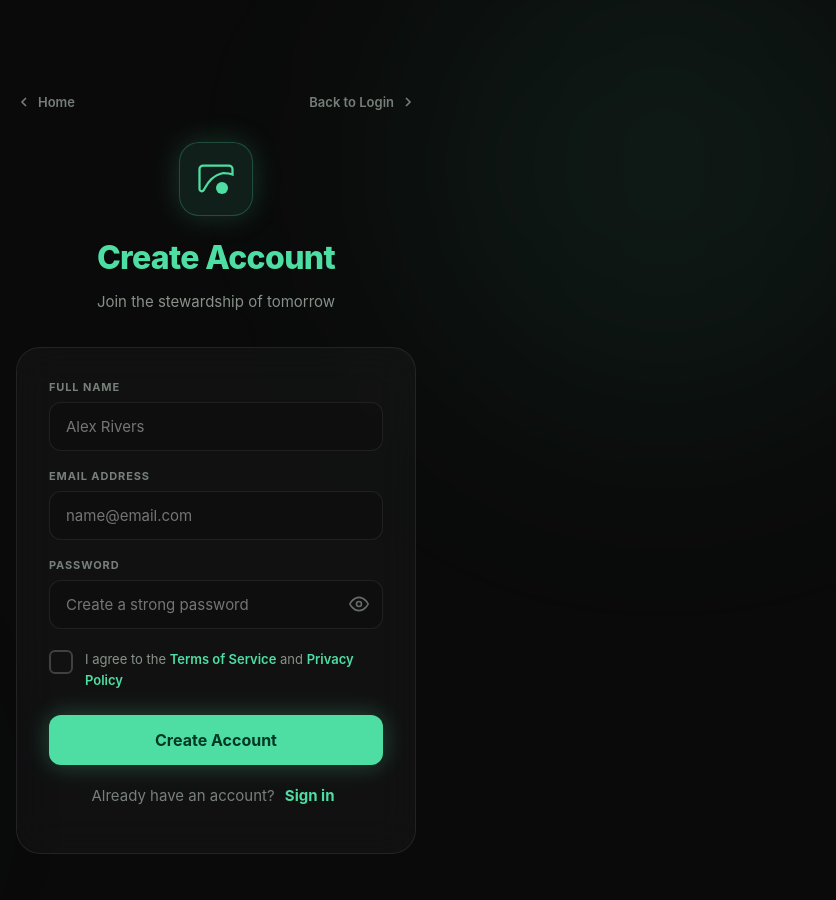
Test: Signup component › shows error on mismatched passwords
Step 1. Type "Test User" into the field labelled "Full Name" → (216,426), box [49,402,383,451]
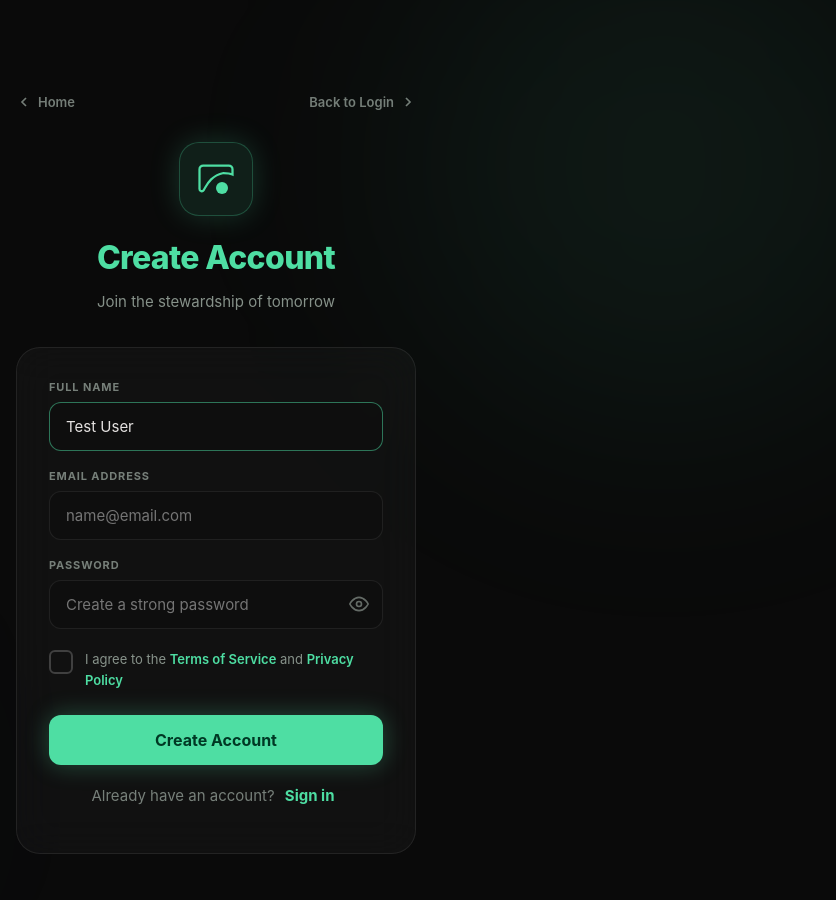
Step 2. Type "test@example.com" into the field labelled "Email Address" → (216,515), box [49,491,383,540]
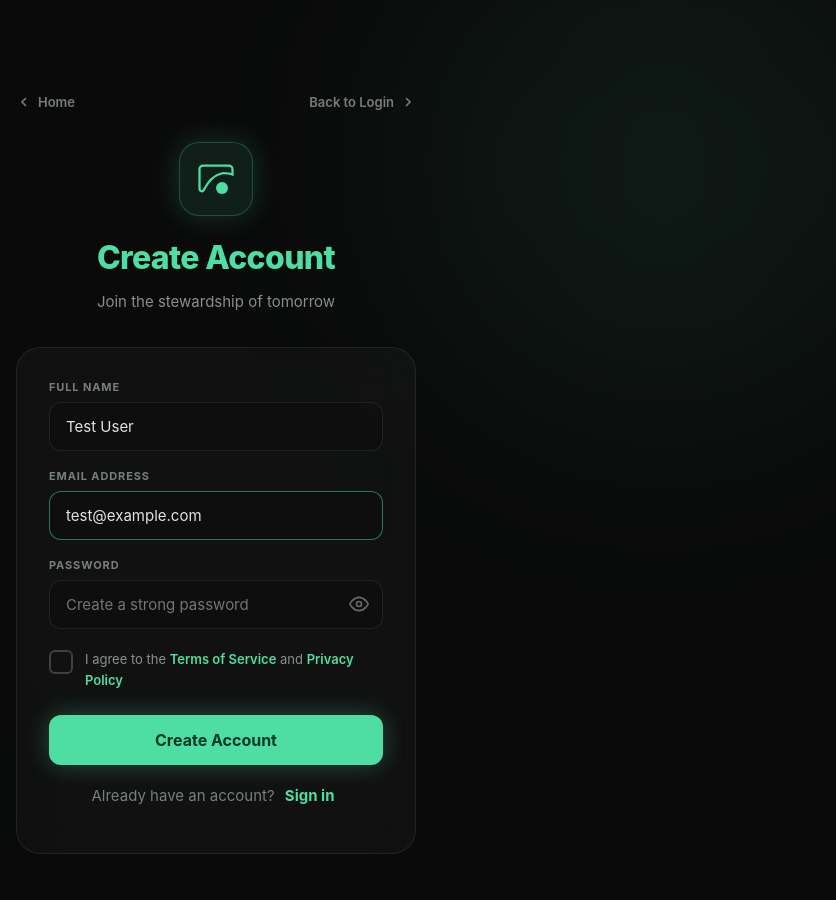
Step 3. Type "Password1!" into the password field labelled "Password" → (216,604), box [49,580,383,629]
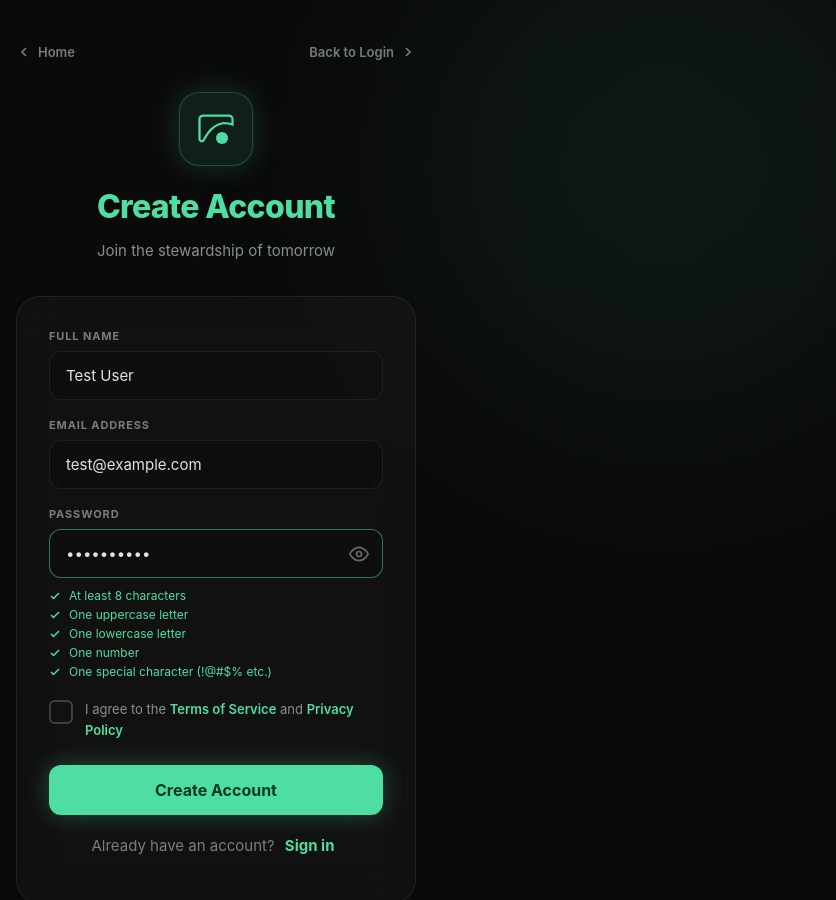
Step 4. Click the button "Create Account" → (216,790), box [49,765,383,815]
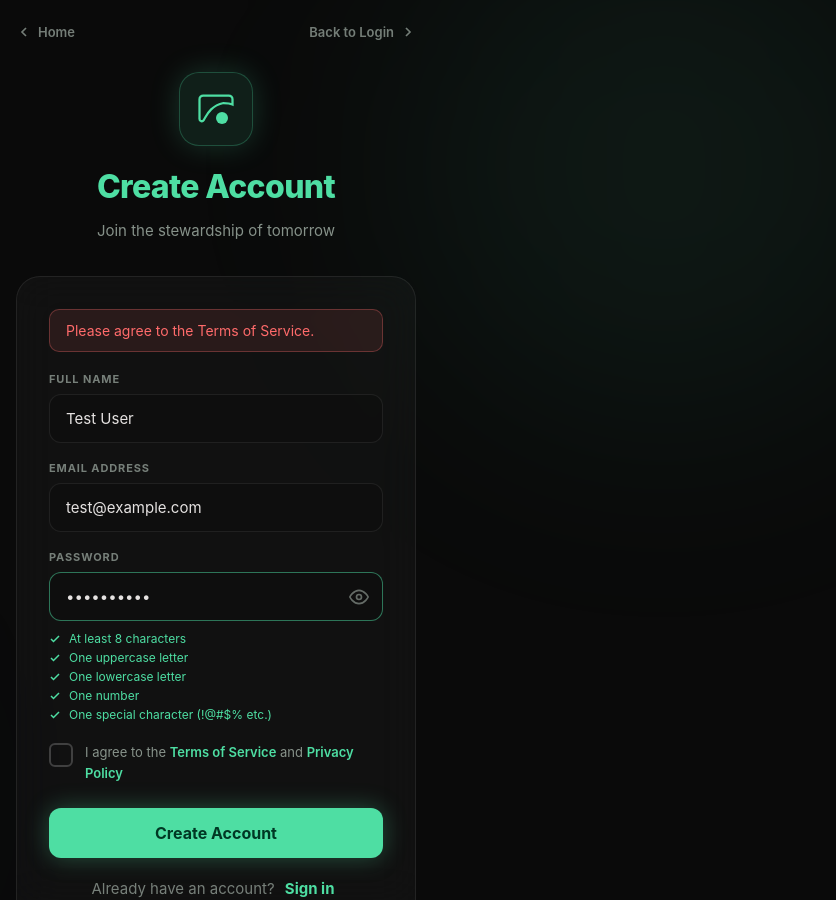
Check: the message "Please agree to the Terms of Service." is shown, box [49,309,383,352]
